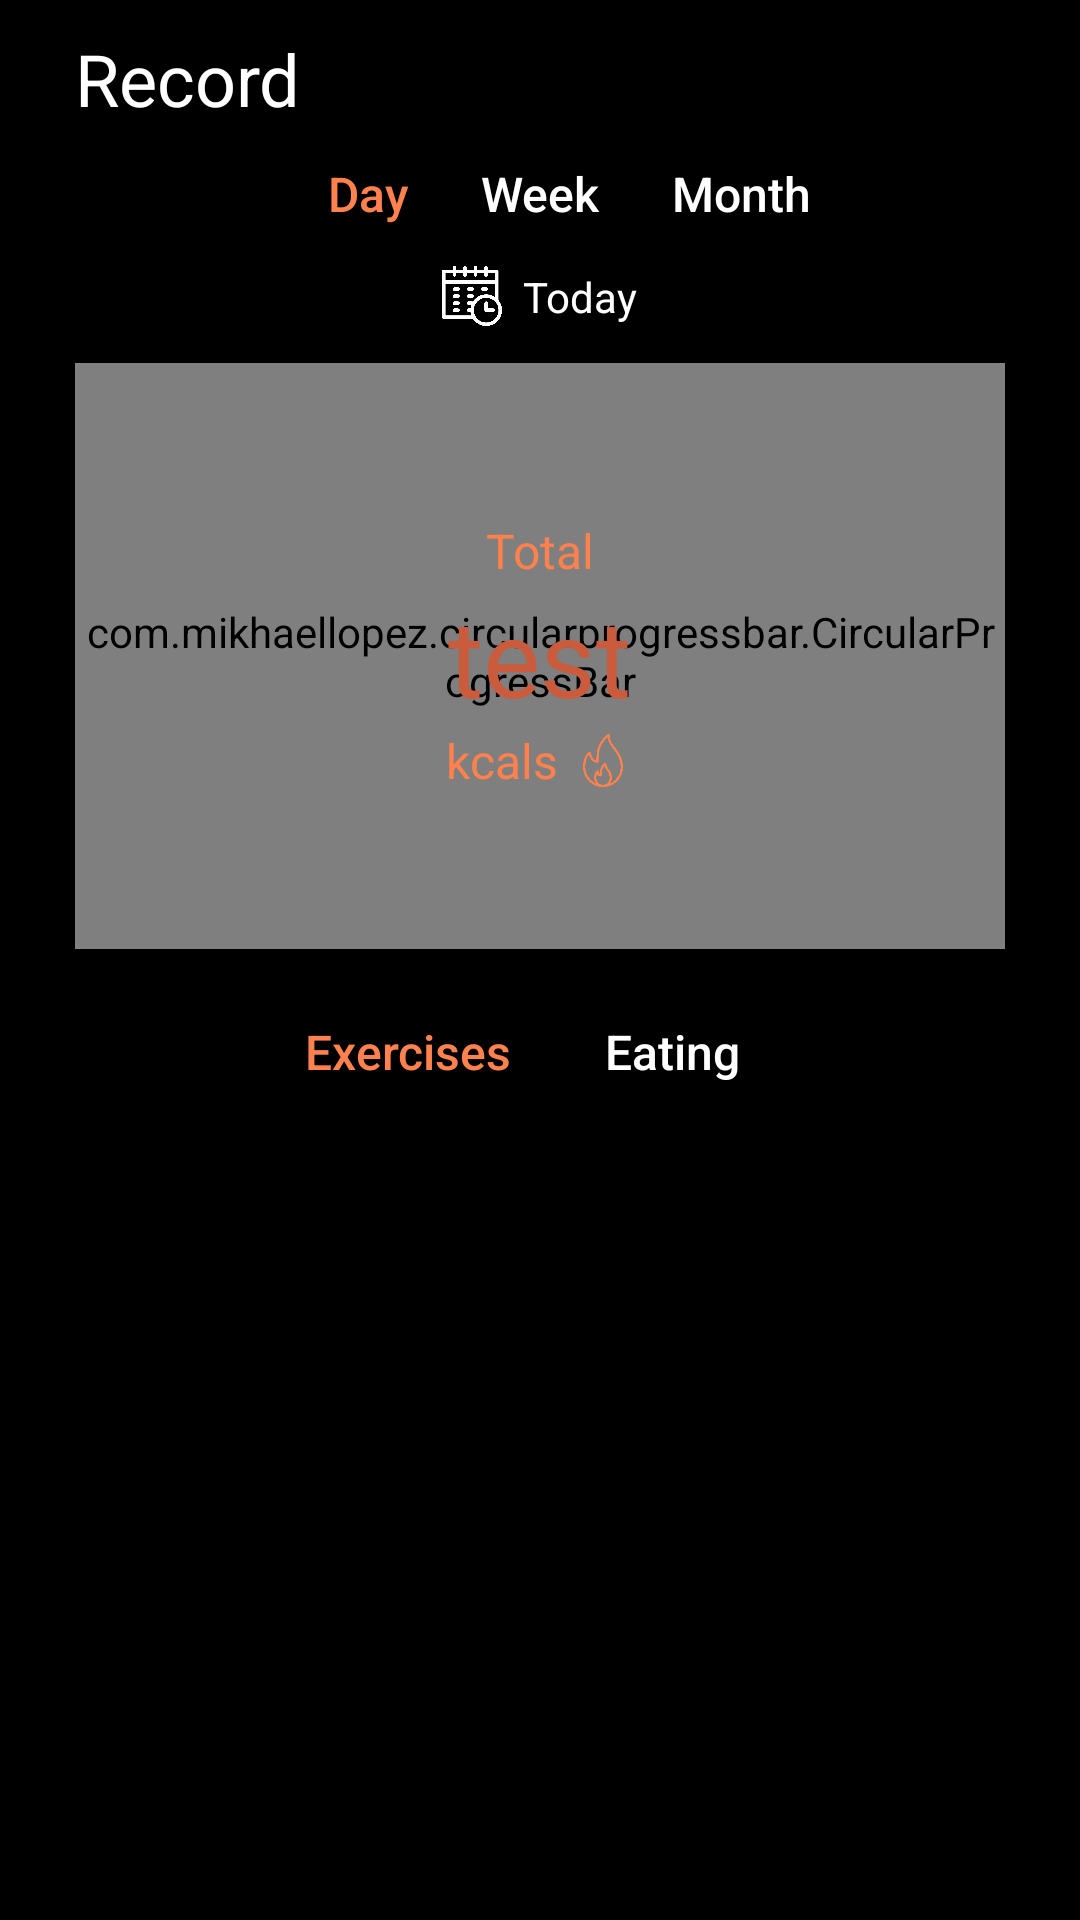

Screen size 1080w x 1920h. Icon name, then its center in pixels as [x,y]:
burn: [603,760]
calendar: [472,296]
